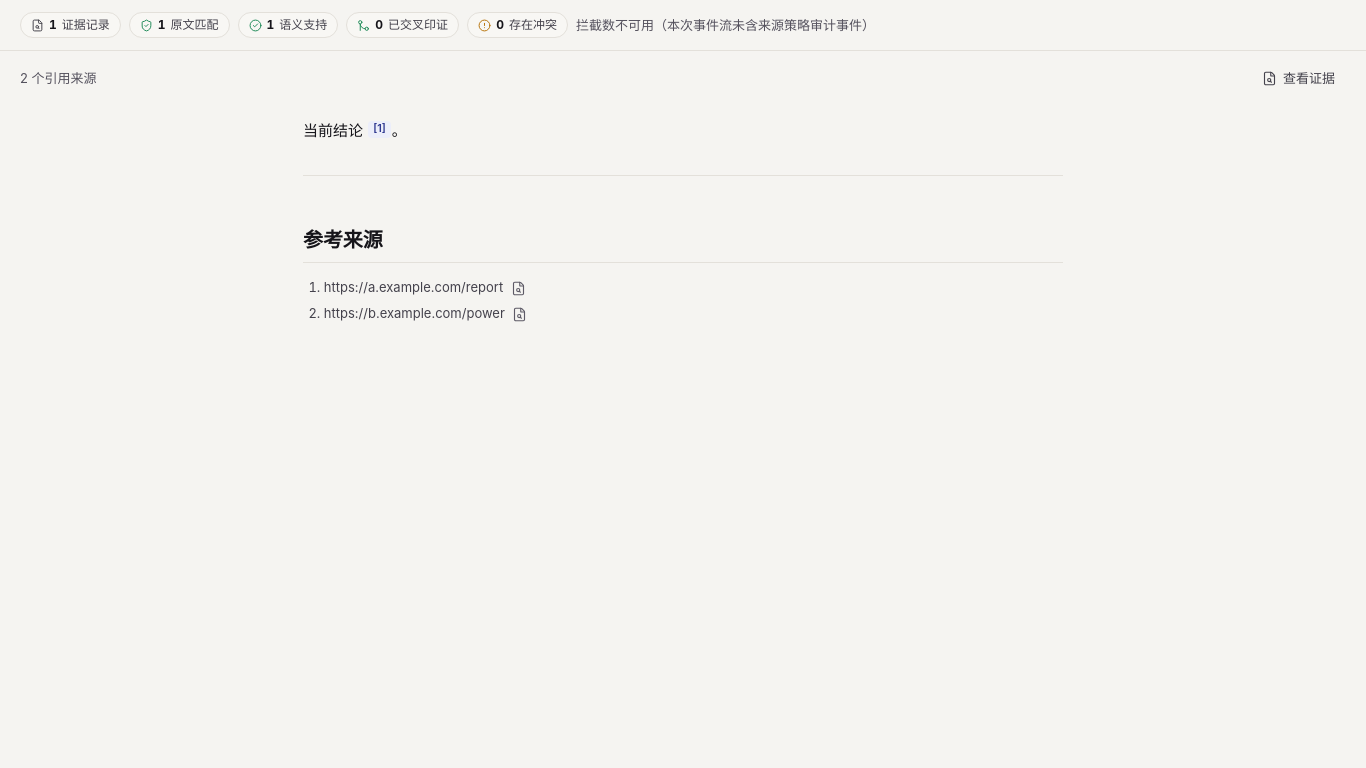
Test: shows a readable explanation for failed source checks while preserving raw diagnostic data
The width and height of the screenshot is (1366, 768).
Click the button named "查看引用 1 的证据" at (380, 130), box [368,121,391,138]
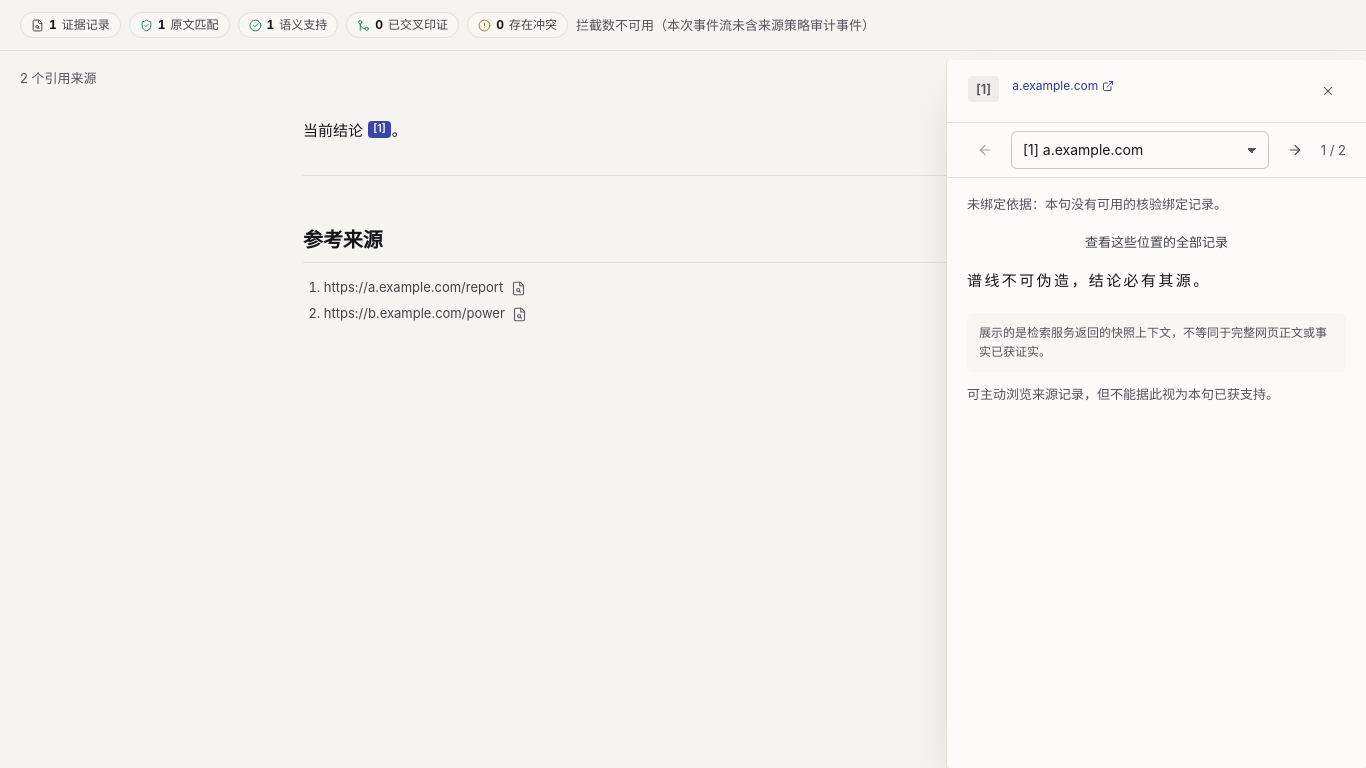
Click the button "查看这些位置的全部记录" at (1156, 242), box [967,227,1346,257]
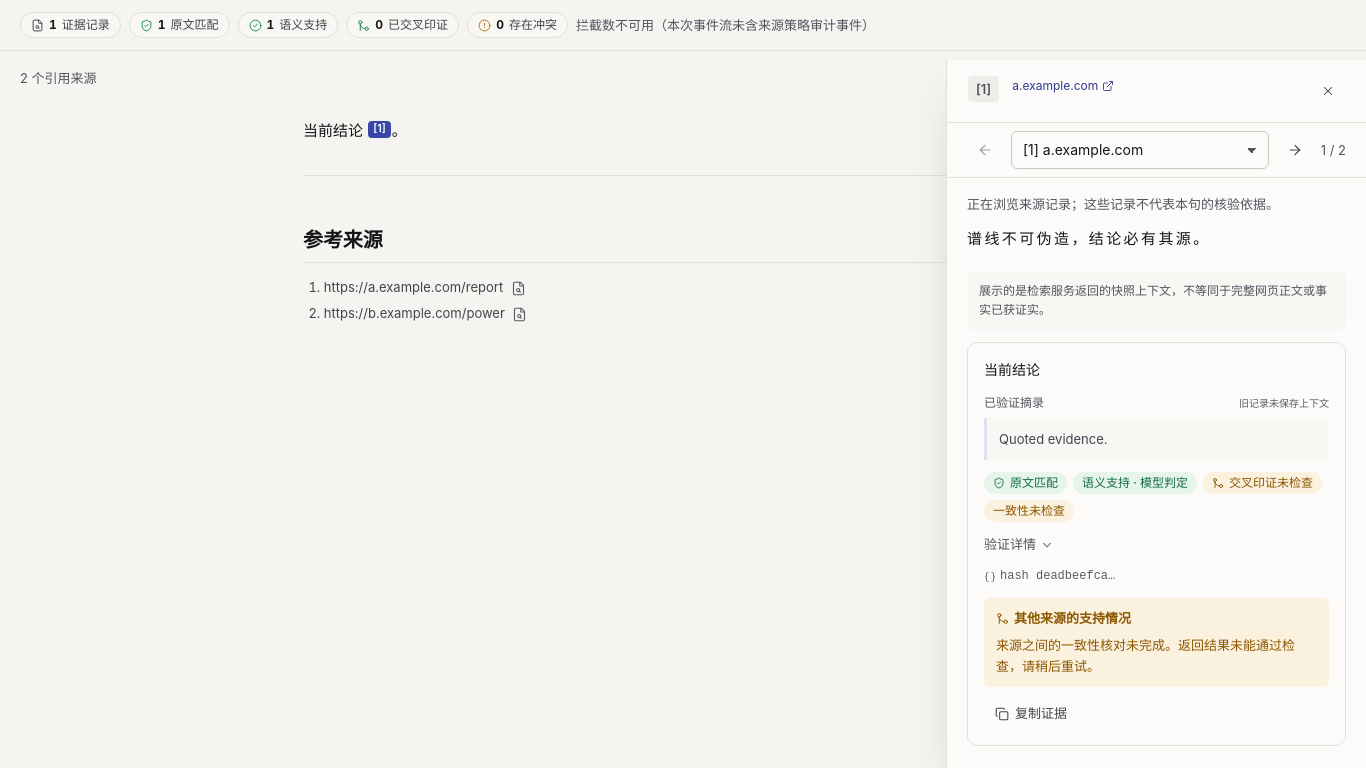
Expected: the dialog shows "来源之间的一致性核对未完成", [996,637,1295,674]
Expected: the dialog shows "其他来源的支持情况", [1014,610,1131,626]
